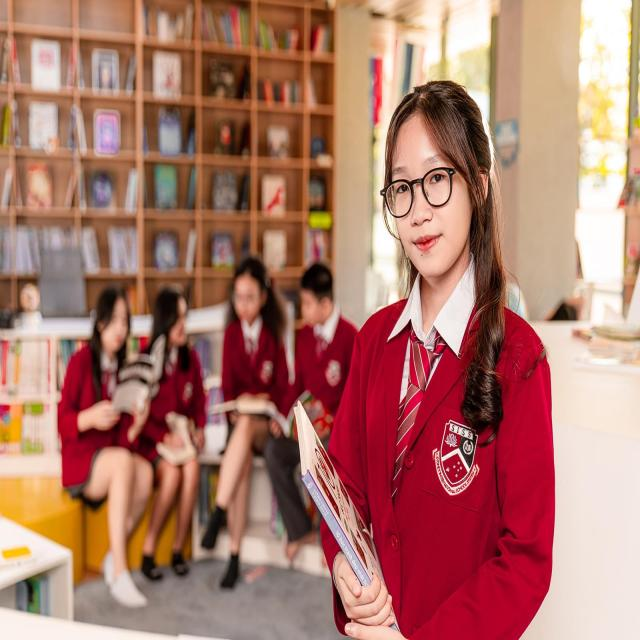Nonhelmet: (377, 75, 515, 298)
